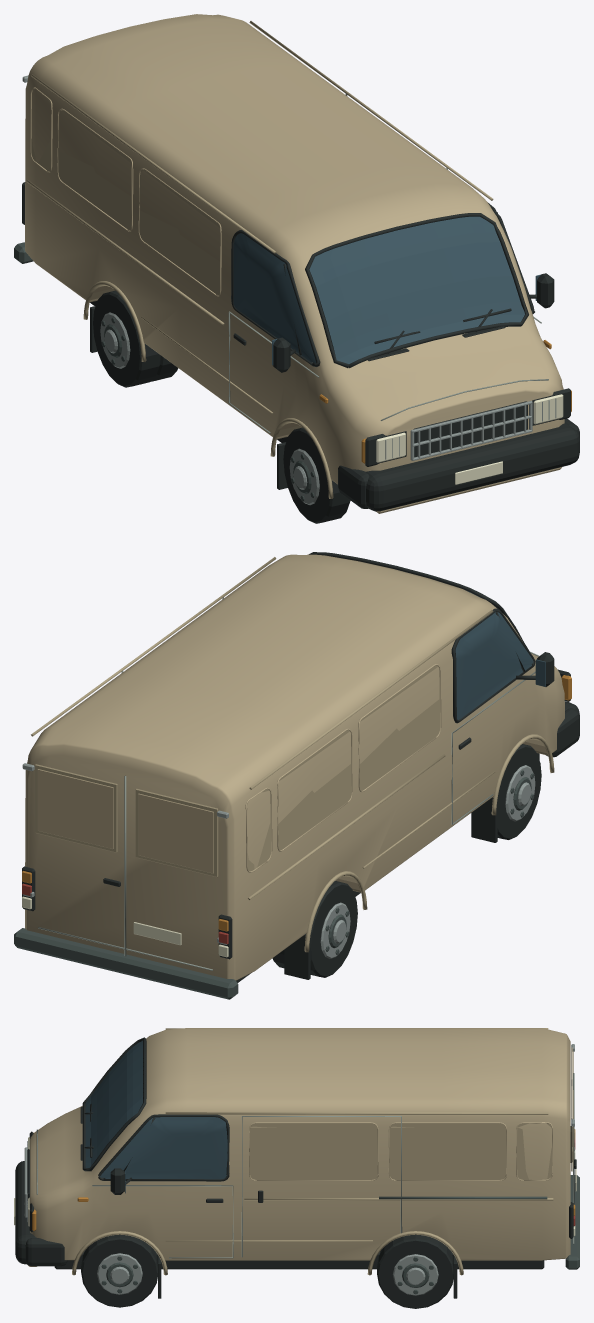
The model's file is gazelle_2705_sand.glb.
3 renders of one model, top to bottom at view 1: azimuth 30°, elevation 25°; view 2: azimuth 150°, elevation 25°; view 3: azimuth 270°, elevation 25°, orthographic. The views are drawn at different scales.
Visible parts, largest first — view 1: GAZ_2705.001; view 2: GAZ_2705.001; view 3: GAZ_2705.001.
Boxes of the visible parts, x1,y1,x2,y2 form: GAZ_2705.001: [14, 14, 579, 523]; GAZ_2705.001: [14, 552, 579, 999]; GAZ_2705.001: [14, 1028, 579, 1308].
Bounding box in the file's own units: 2.07 × 1.9 × 4.61.
3 materials, 3 textured.
